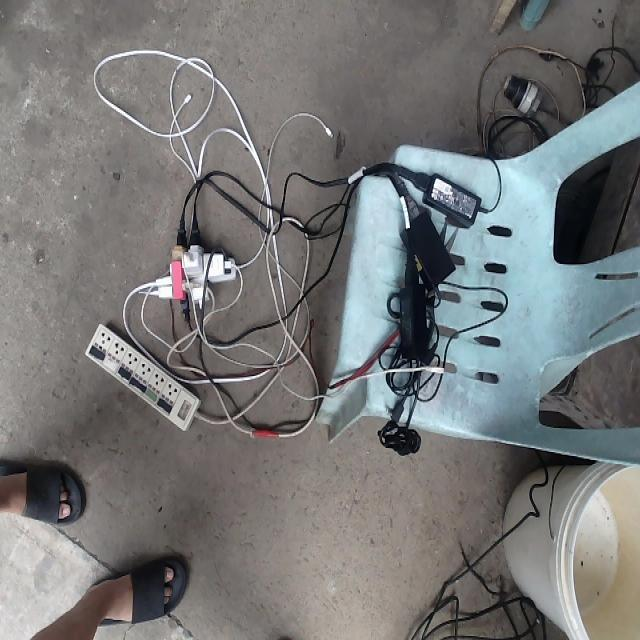-: (150, 210, 242, 326)
